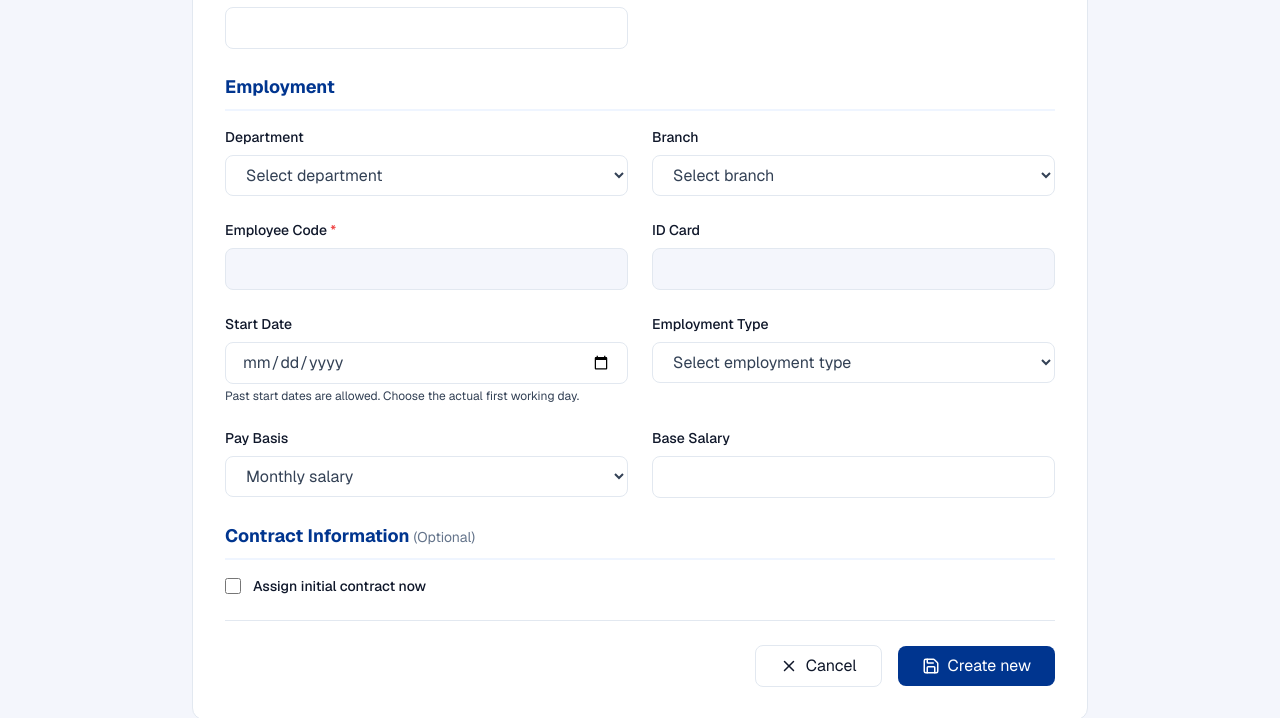
Test case: required fields › refuses to create an employee with no name
(page scrolled)
Click the button "Create new" at point(976, 666), box [898,646,1055,686]
(page scrolled)
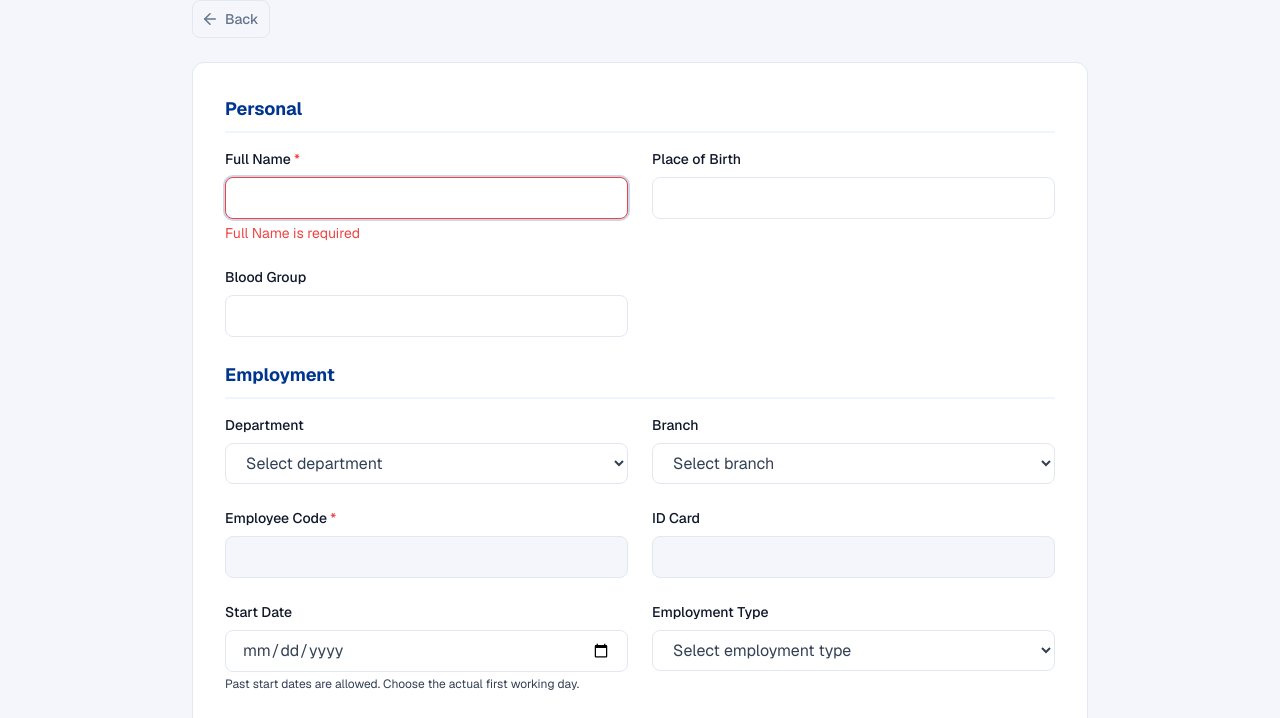
Expected: the text "Full Name is required" is shown, [225,224,360,242]
